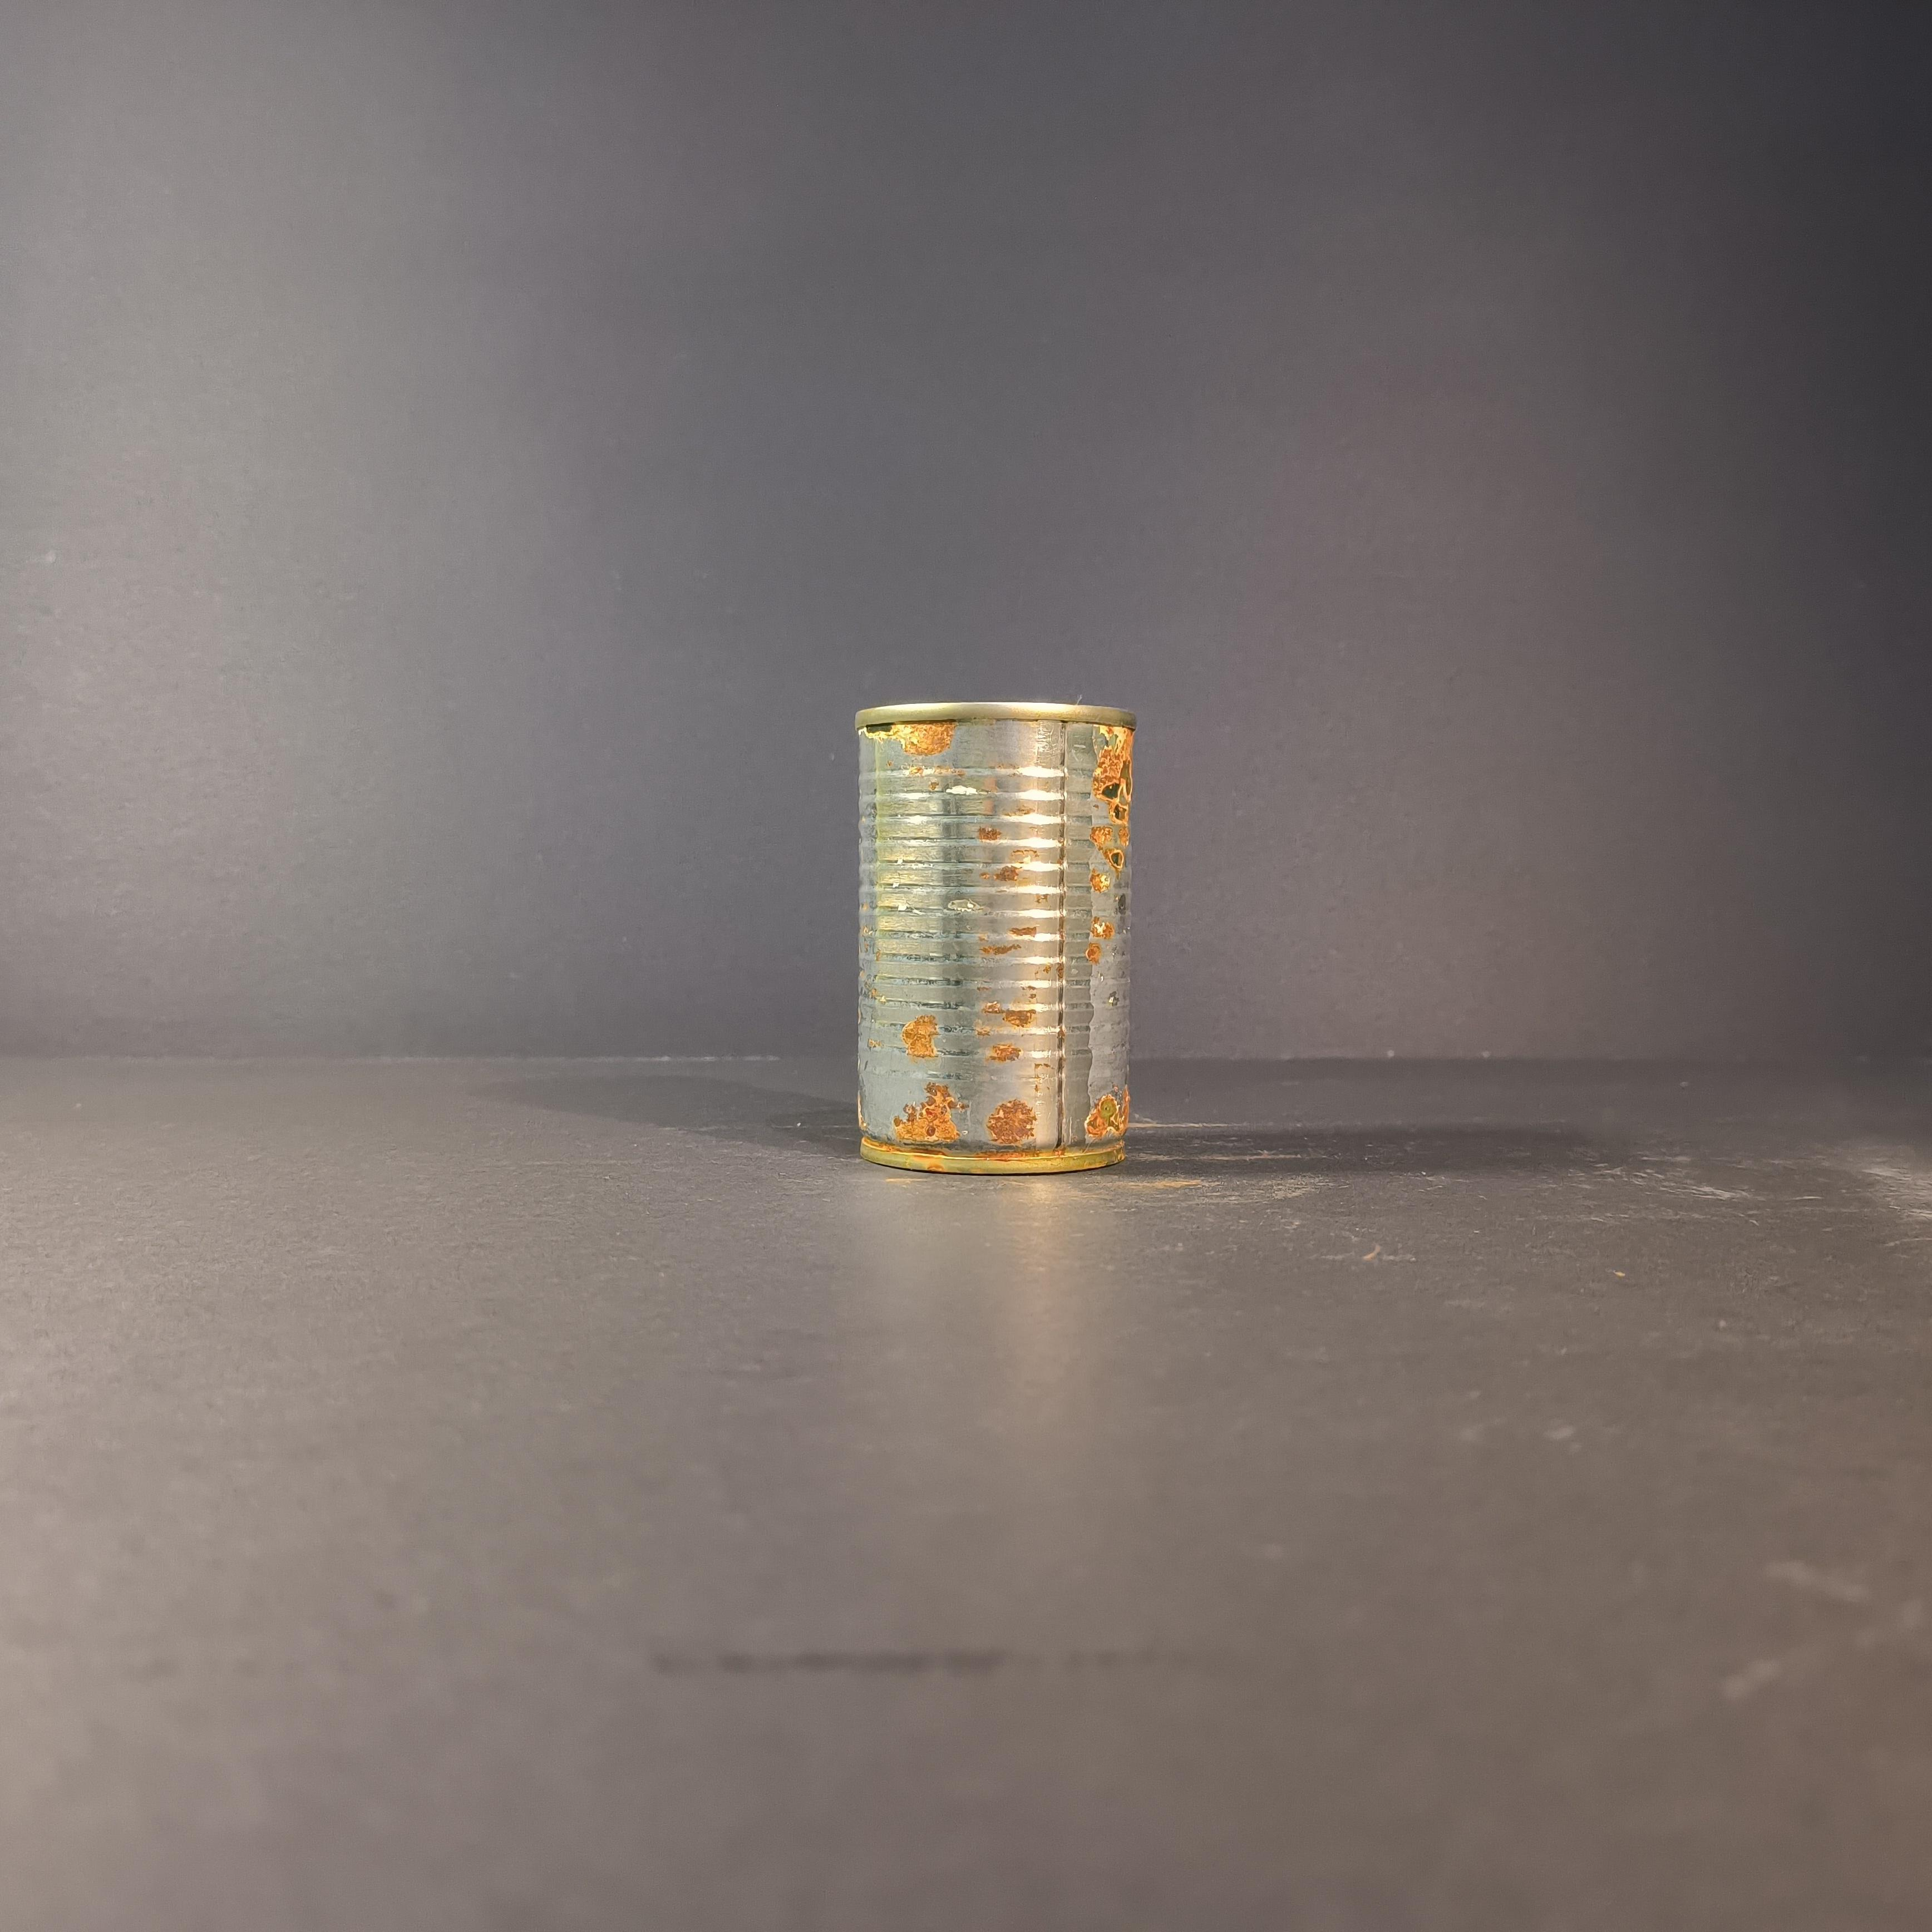Rusted: (842, 681, 1152, 1200)
